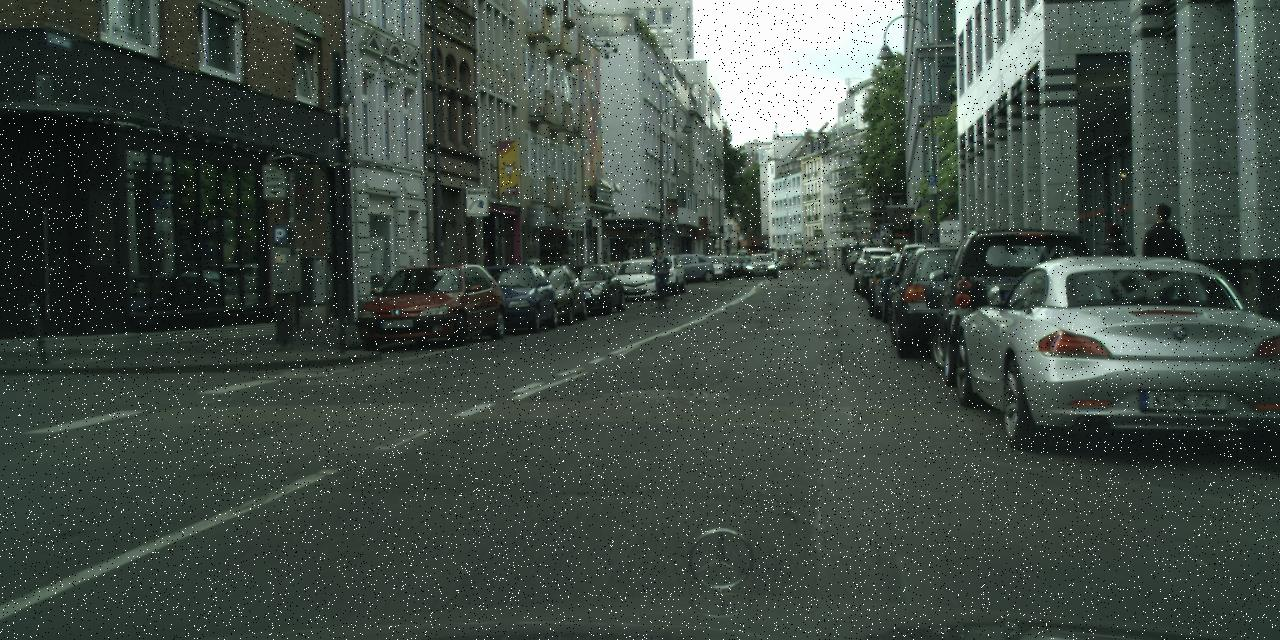ped: (1136, 203, 1192, 341), (1092, 224, 1140, 342), (650, 248, 670, 298)
